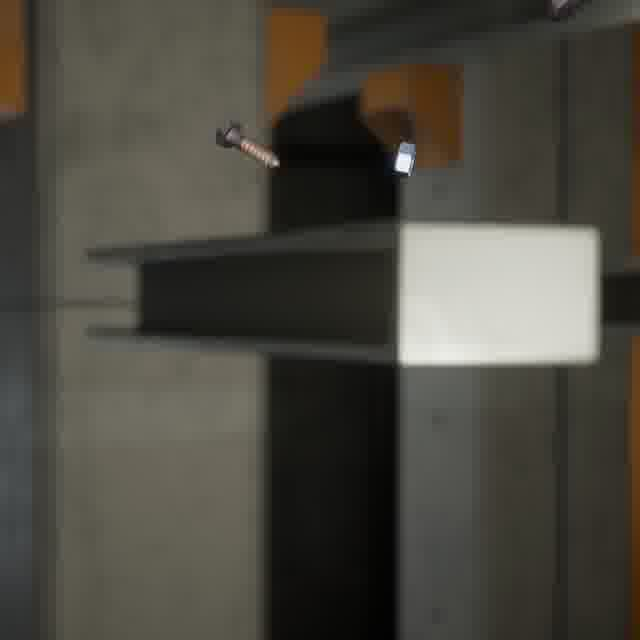bolt: (210, 114, 283, 174), (542, 0, 584, 25)
nut: (390, 137, 420, 181)
